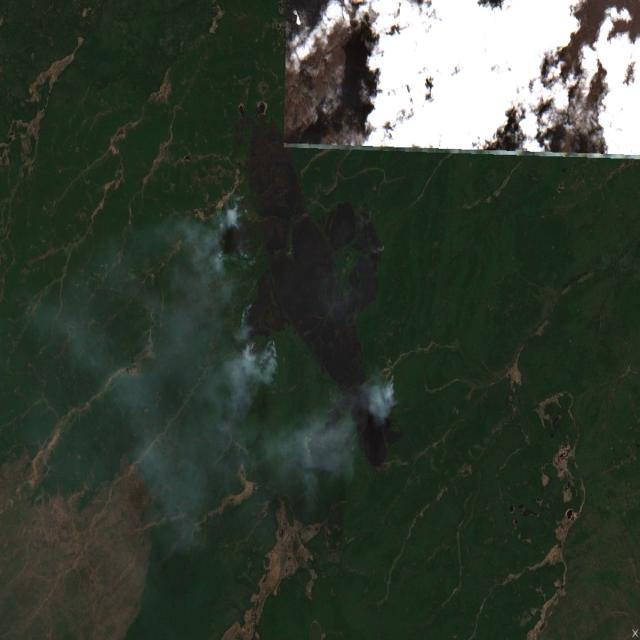fire: (237, 299, 280, 373), (371, 358, 404, 415), (223, 190, 250, 227)
